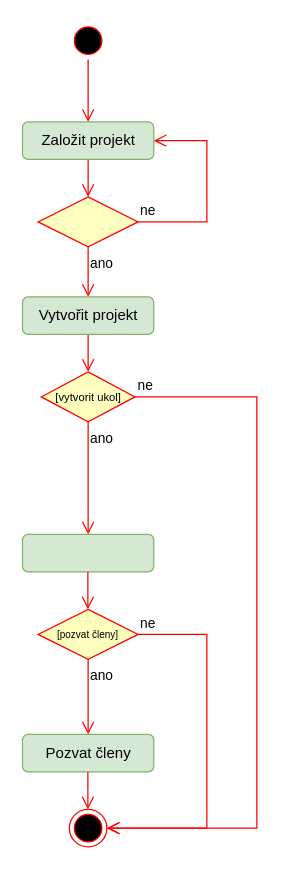
The diagram is 291 pixels wide and 869 high, and some of its shapes have lost their labels. Each missing label, with the box of its shape:
[data ok]: (37, 196, 138, 247)
Vytvořit úkol: (21, 533, 154, 572)
